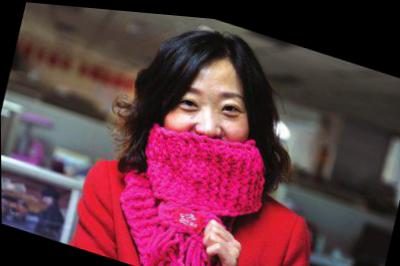WRONG: (147, 62, 261, 187)
